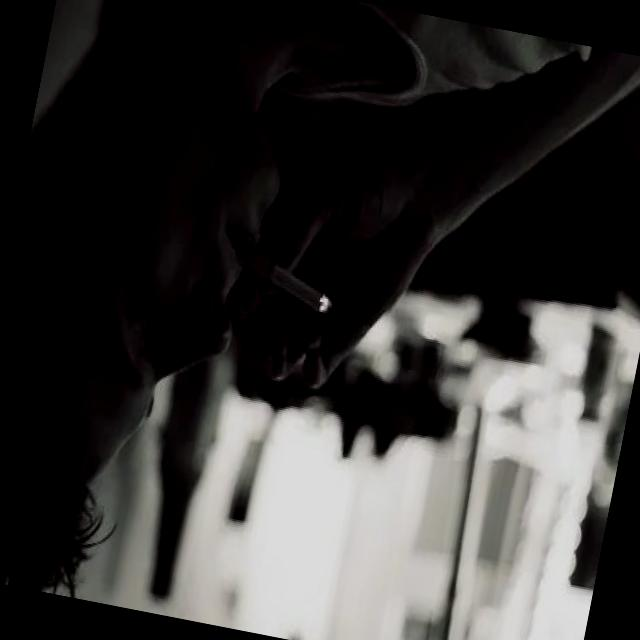cigarette: (228, 230, 346, 320)
